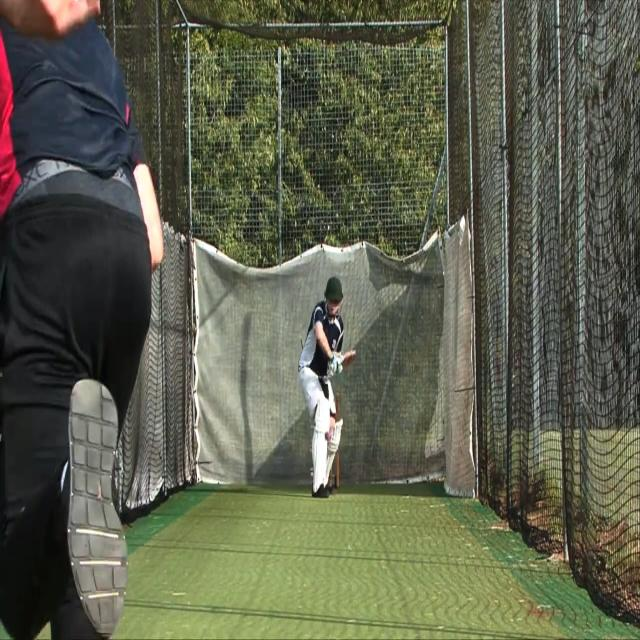batsman: (297, 274, 357, 500)
